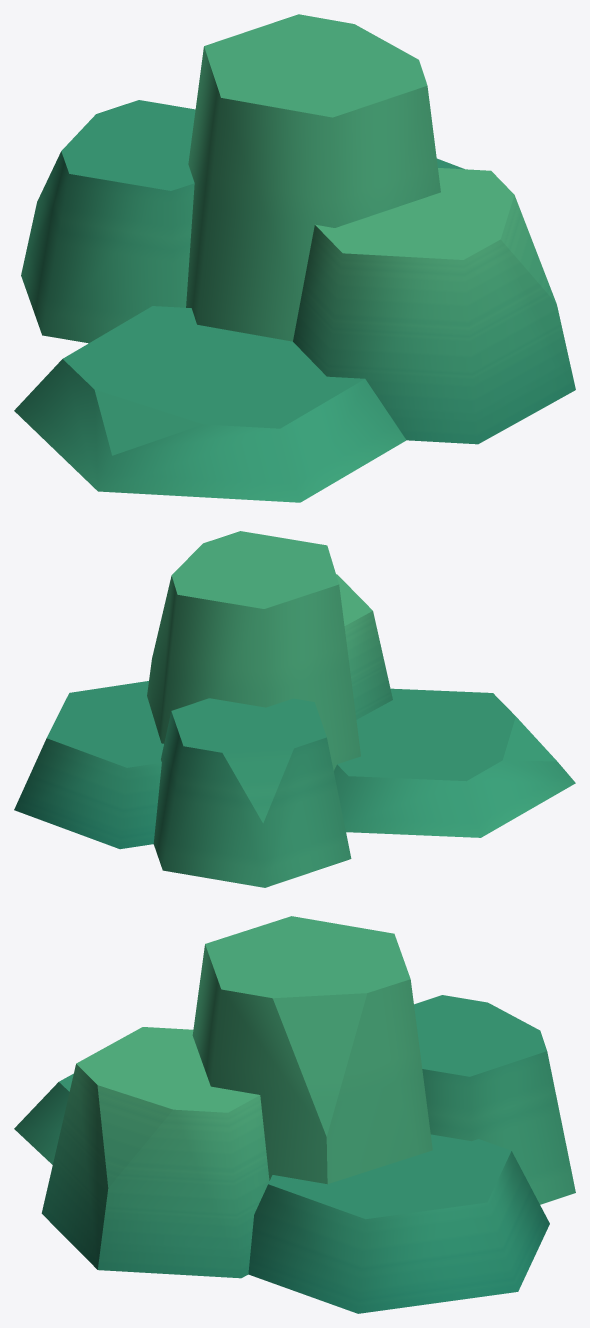
The model's file is detail-rocks-large.fbx.
3 renders of one model, top to bottom at view 1: azimuth 30°, elevation 25°; view 2: azimuth 150°, elevation 25°; view 3: azimuth 270°, elevation 25°, orthographic. The views are drawn at different scales.
Visible parts, largest first — view 1: detail-rocks-large; view 2: detail-rocks-large; view 3: detail-rocks-large.
Part boxes in pixels (x1,y1,x2,y2): detail-rocks-large: [14, 14, 575, 502]; detail-rocks-large: [14, 531, 575, 887]; detail-rocks-large: [14, 916, 575, 1313].
Bounding box in the file's own units: 89.22 × 41.45 × 85.93.
